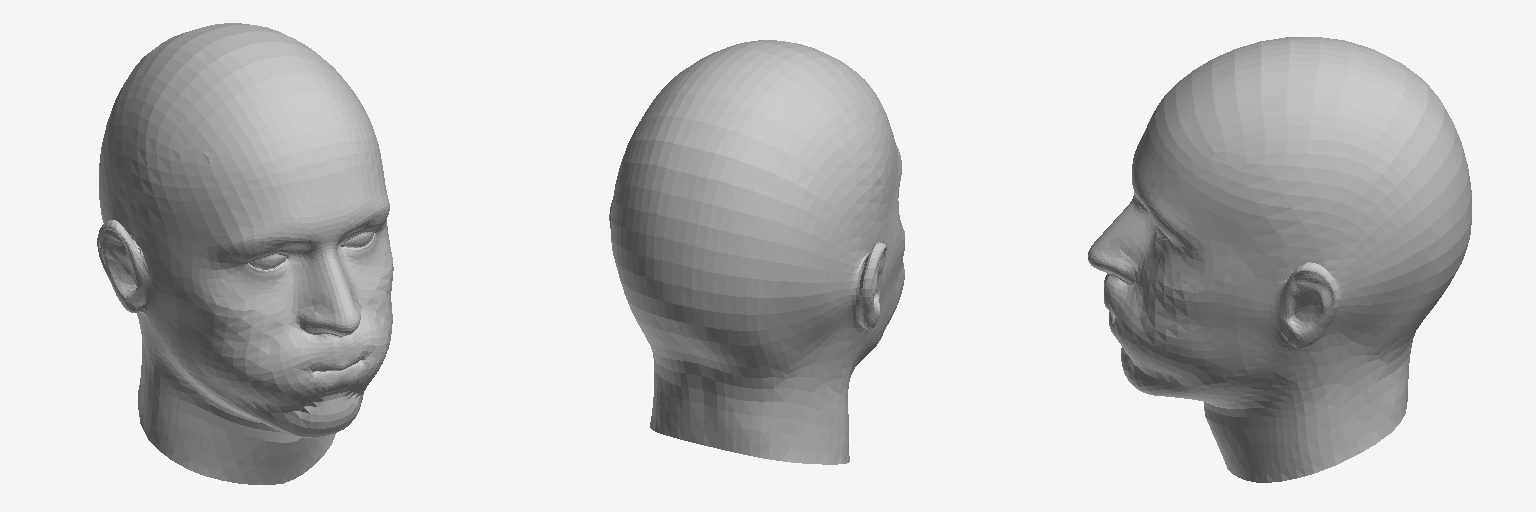
File: MaleFace_ExpressionPuffCheeks.obj
3 views of the same model, side by side, from view 1: azimuth 30°, elevation 25°; view 2: azimuth 150°, elevation 25°; view 3: azimuth 270°, elevation 25° (orthographic).
Size of the model in its own units: 189 by 284 by 238.